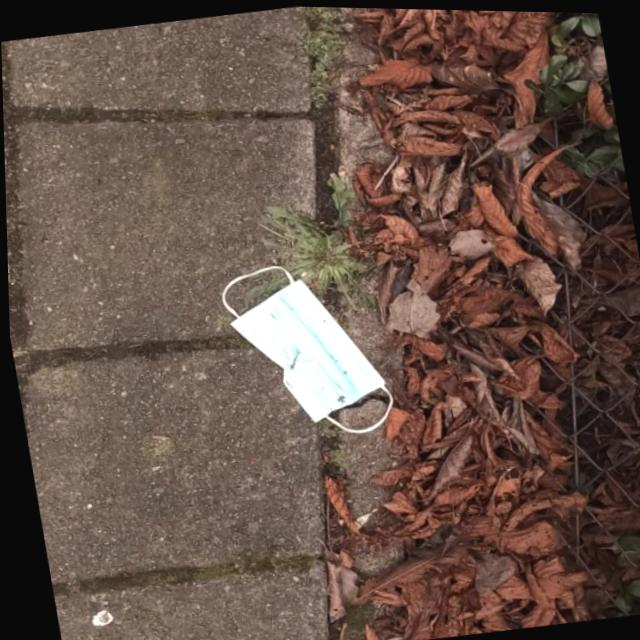Mask: (210, 246, 400, 450)
